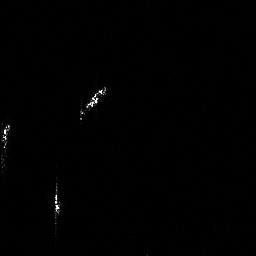ship: (76, 83, 109, 121), (51, 192, 64, 216), (1, 122, 12, 150)
